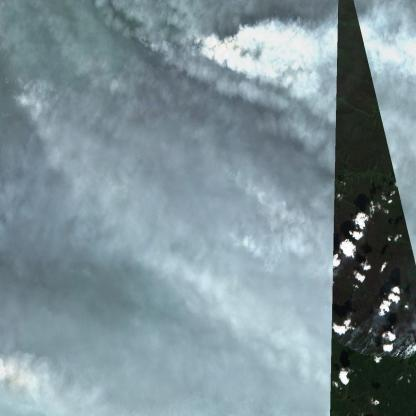fire: (336, 322, 415, 365)
